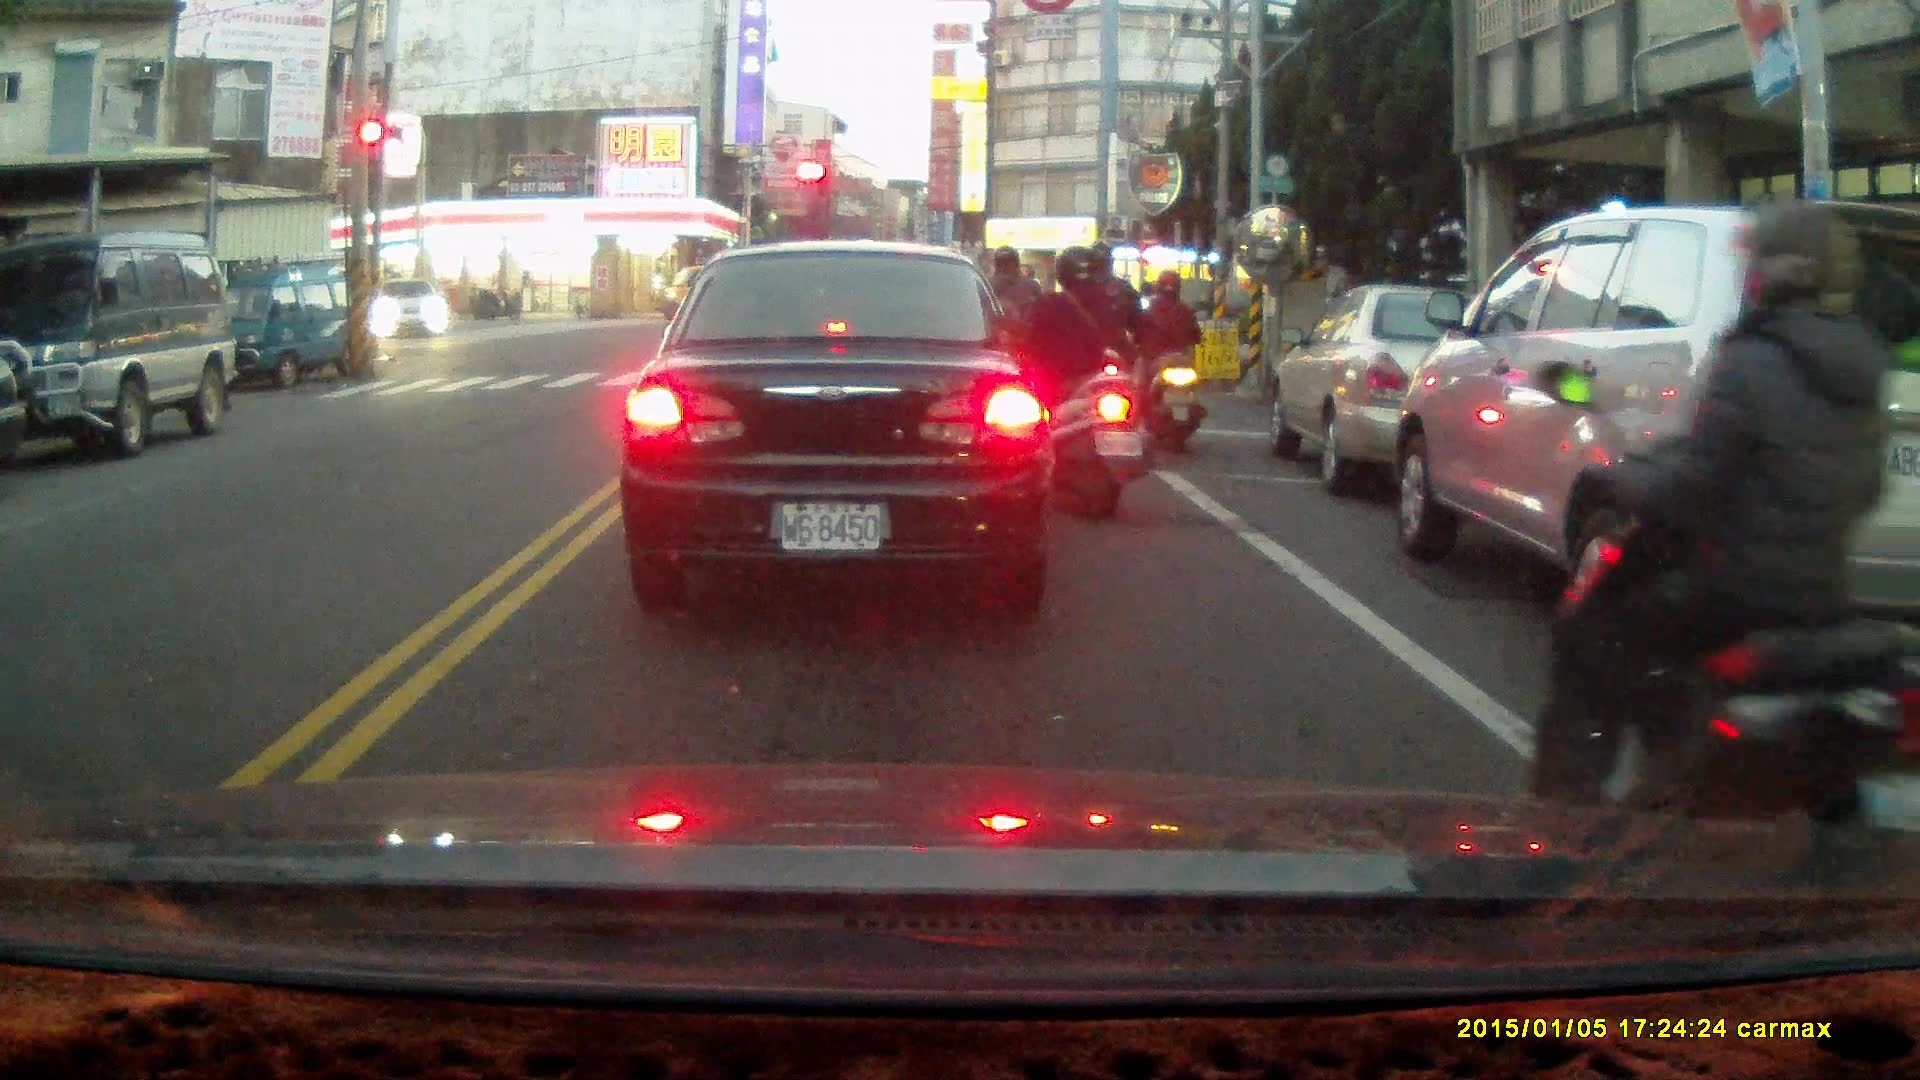rider: (1527, 190, 1920, 906), (1005, 243, 1151, 527), (1048, 243, 1141, 469), (961, 241, 1053, 441), (1134, 269, 1204, 450), (467, 282, 521, 322)
vehicle: (1377, 195, 1920, 685), (617, 243, 1061, 606), (1, 234, 239, 458), (194, 255, 381, 394), (372, 277, 451, 343)
